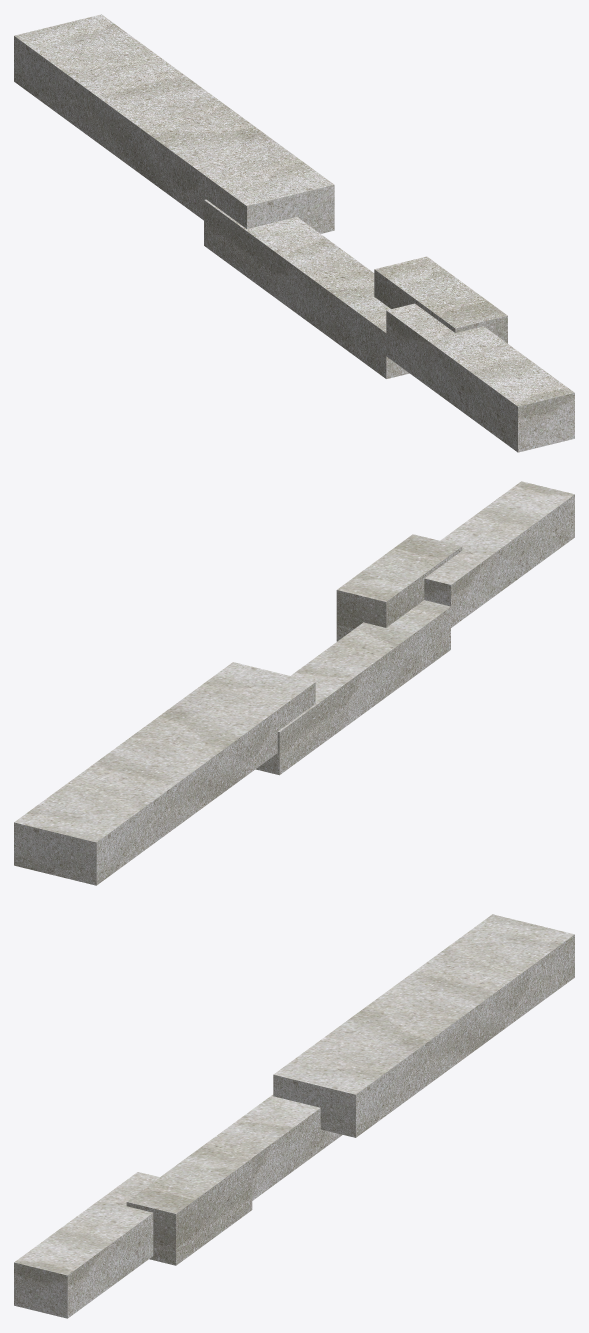
File: SandbagPile1.obj
The picture shows the model from 3 angles, top to bottom: view 1: azimuth 30°, elevation 25°; view 2: azimuth 150°, elevation 25°; view 3: azimuth 330°, elevation 25°; orthographic projection. The views are drawn at different scales.
Visible parts, largest first — view 1: Sandbag11, Sandbag41, Sandbag21, Sandbag31; view 2: Sandbag11, Sandbag21, Sandbag41, Sandbag31; view 3: Sandbag11, Sandbag41, Sandbag31, Sandbag21.
Boxes of the visible parts, bbox=[...] form: Sandbag11: bbox=[14, 14, 334, 233]; Sandbag41: bbox=[386, 303, 574, 452]; Sandbag21: bbox=[204, 199, 409, 378]; Sandbag31: bbox=[374, 256, 507, 343]; Sandbag11: bbox=[14, 662, 315, 885]; Sandbag21: bbox=[255, 600, 450, 775]; Sandbag41: bbox=[424, 481, 574, 627]; Sandbag31: bbox=[336, 534, 462, 641]; Sandbag11: bbox=[273, 914, 574, 1137]; Sandbag41: bbox=[14, 1172, 159, 1318]; Sandbag31: bbox=[126, 1146, 252, 1265]; Sandbag21: bbox=[161, 1094, 342, 1200].
Size of the model in its own units: 1.03 by 0.8 by 10.
1 material, 1 textured.
